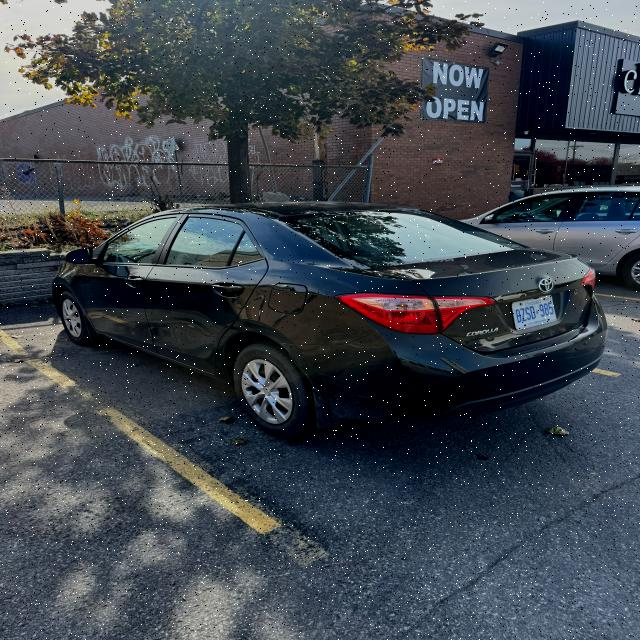plaque: (512, 296, 556, 329)
